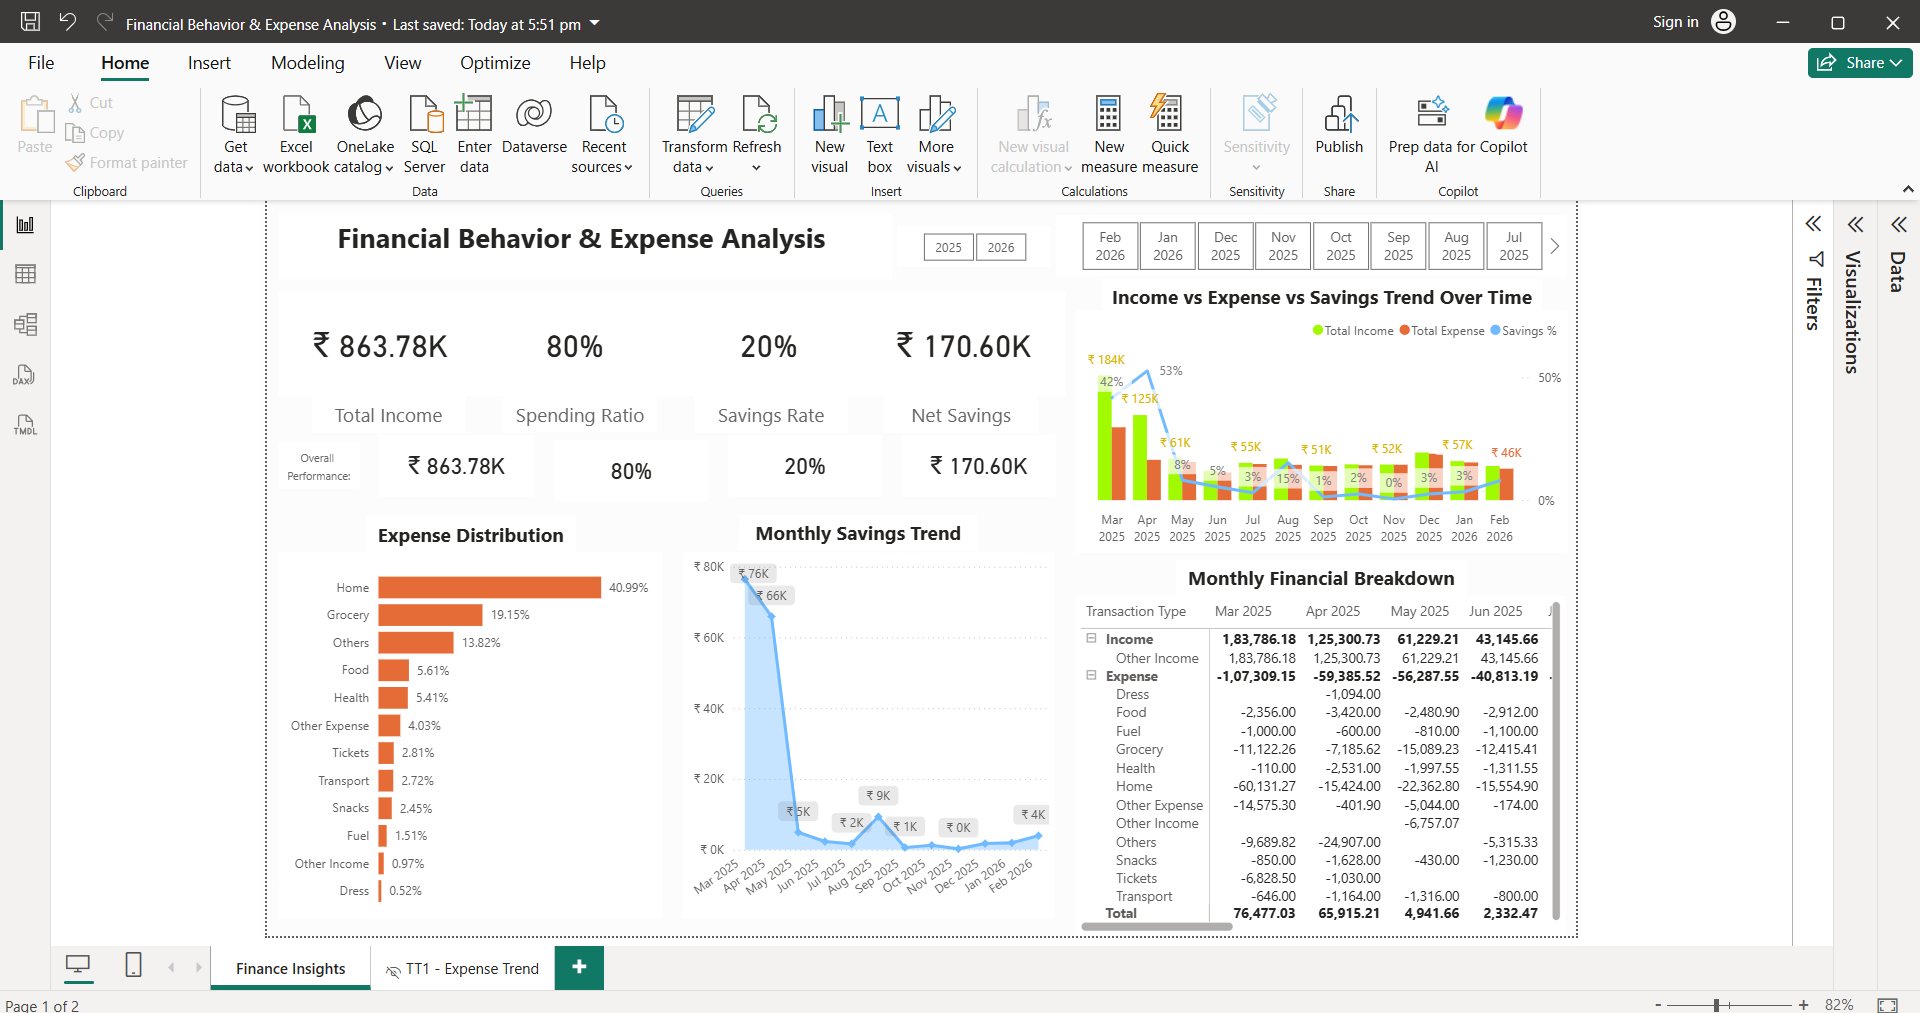

Layout of this report page (visuals, bound fields, positions):
{"tool":"powerbi","page":{"name":"Finance Insights","canvas":[1280,720],"ordinal":0},"visuals":[{"type":"textbox","box":[11.1,13.5,600.6,64],"z":0},{"type":"slicer","fields":{"Values":["Final_Finance_Data.Year"]},"box":[616.5,25.7,150.4,40.4],"z":1000},{"type":"slicer","fields":{"Values":["Final_Finance_Data.Month Year"]},"box":[771.7,14.8,499.7,60.3],"z":2000},{"type":"card","fields":{"Values":["Key Measures.Total Income"]},"box":[11.1,91.1,199.4,100.9],"z":3000},{"type":"card","fields":{"Values":["Key Measures.Expense %"]},"box":[201.4,91.1,199,100.9],"z":4000},{"type":"card","fields":{"Values":["Key Measures.Savings %"]},"box":[391.4,91.1,199.4,100.9],"z":5000},{"type":"card","fields":{"Values":["Key Measures.Net Savings"]},"box":[581.7,91.1,199,100.9],"z":6000},{"type":"card","fields":{"Values":["Key Measures.Total Income"]},"box":[110.5,229.9,150.4,61.1],"z":7000},{"type":"card","fields":{"Values":["Key Measures.Expense %"]},"box":[280.8,234.8,150.4,61],"z":8000},{"type":"card","fields":{"Values":["Key Measures.Savings %"]},"box":[451.2,230.2,150,61],"z":9000},{"type":"card","fields":{"Values":["Key Measures.Net Savings"]},"box":[621.2,230.2,150,61],"z":10000},{"type":"textbox","box":[44.3,192,150,35.7],"z":11000},{"type":"textbox","box":[230.9,192,150.4,35.5],"z":12000},{"type":"textbox","box":[417.9,192,150,35.7],"z":13000},{"type":"textbox","box":[604.6,192,150,35.7],"z":14000},{"type":"clusteredBarChart","fields":{"Category":["Final_Finance_Data.Category"],"Y":["Key Measures.Total Expense"]},"box":[12.3,344.6,374.2,358.2],"z":15000},{"type":"textbox","box":[96,308.9,205.5,35.7],"z":16000},{"type":"lineClusteredColumnComboChart","title":"How Income & Expense changed over time","fields":{"Category":["Final_Finance_Data.Month Year"],"Y":["Key Measures.Total Income","Key Measures.Total Expense"],"Y2":["Key Measures.Savings %"]},"box":[791.2,107.6,480.6,237.2],"z":17000},{"type":"textbox","box":[11,237.2,79.5,45.2],"z":18000},{"type":"pivotTable","fields":{"Values":["Sum(Final_Finance_Data.Amount)"],"Columns":["Final_Finance_Data.Month Year"],"Rows":["Type.Transaction Type","Final_Finance_Data.Category"]},"box":[791.2,387.6,479.4,332.6],"z":19000},{"type":"textbox","box":[889,352.2,285,35.5],"z":20000},{"type":"textbox","box":[816.9,77,430.4,35.5],"z":21000},{"type":"areaChart","fields":{"Category":["Final_Finance_Data.Month Year"],"Y":["Key Measures.Net Savings"]},"box":[407.2,344.8,363.2,358.3],"z":22000},{"type":"textbox","box":[462.2,308.2,232.3,35.5],"z":23000}]}

Visuals, with their boxes on the page's 1280x720 design canvas (x1, y1, x2, y2). These are canvas units, not pixel positions in the 1920x1013 screenshot, which may show the page scaled, cropped or inside an application window:
textbox: locate(11, 14, 612, 78)
slicer - Final_Finance_Data.Year: locate(616, 26, 767, 66)
slicer - Final_Finance_Data.Month Year: locate(772, 15, 1271, 75)
card - Key Measures.Total Income: locate(11, 91, 210, 192)
card - Key Measures.Expense %: locate(201, 91, 400, 192)
card - Key Measures.Savings %: locate(391, 91, 591, 192)
card - Key Measures.Net Savings: locate(582, 91, 781, 192)
card - Key Measures.Total Income: locate(110, 230, 261, 291)
card - Key Measures.Expense %: locate(281, 235, 431, 296)
card - Key Measures.Savings %: locate(451, 230, 601, 291)
card - Key Measures.Net Savings: locate(621, 230, 771, 291)
textbox: locate(44, 192, 194, 228)
textbox: locate(231, 192, 381, 228)
textbox: locate(418, 192, 568, 228)
textbox: locate(605, 192, 755, 228)
clusteredBarChart - Final_Finance_Data.Category x Key Measures.Total Expense: locate(12, 345, 386, 703)
textbox: locate(96, 309, 302, 345)
"How Income & Expense changed over time" lineClusteredColumnComboChart: locate(791, 108, 1272, 345)
textbox: locate(11, 237, 90, 282)
pivotTable - Sum(Final_Finance_Data.Amount) x Final_Finance_Data.Month Year: locate(791, 388, 1271, 720)
textbox: locate(889, 352, 1174, 388)
textbox: locate(817, 77, 1247, 112)
areaChart - Final_Finance_Data.Month Year x Key Measures.Net Savings: locate(407, 345, 770, 703)
textbox: locate(462, 308, 694, 344)
